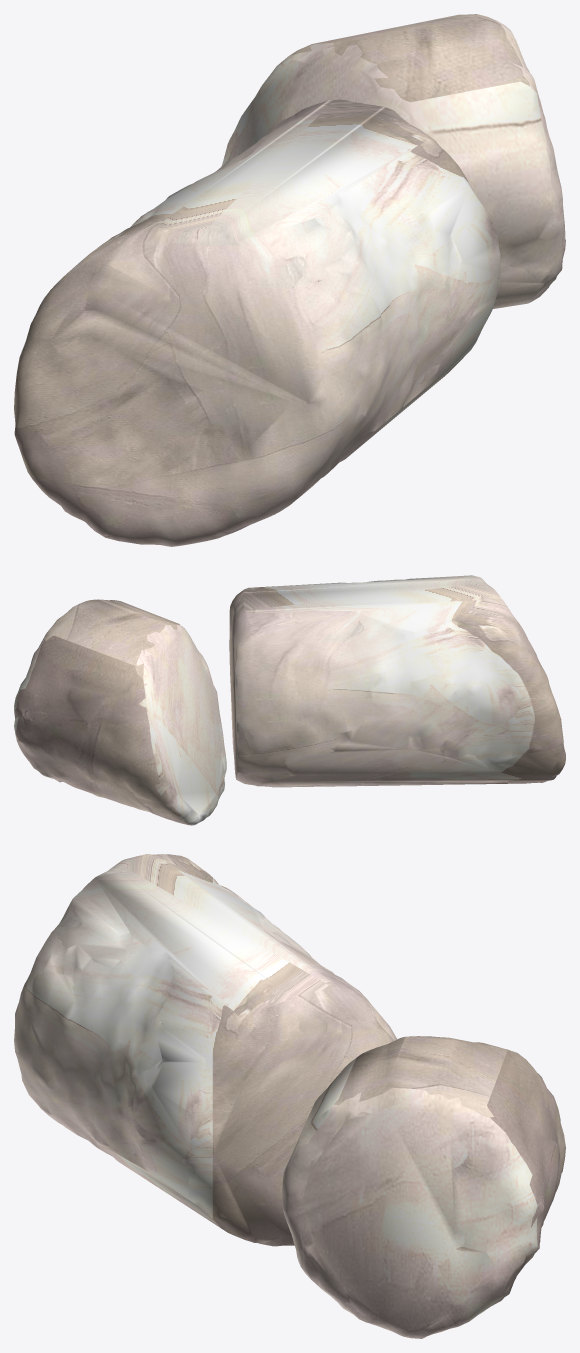
Rendered from ruinB.fbx.
3 renders of one model, top to bottom at view 1: azimuth 30°, elevation 25°; view 2: azimuth 150°, elevation 25°; view 3: azimuth 270°, elevation 25°, orthographic. The views are drawn at different scales.
Visible parts, largest first — view 1: group7; view 2: group7; view 3: group7.
Boxes of the visible parts, box(x1,y1,x2,y2) form: group7: box(14, 14, 565, 546); group7: box(14, 575, 565, 825); group7: box(14, 854, 565, 1338).
Size of the model in its own units: 395 by 165 by 314.
